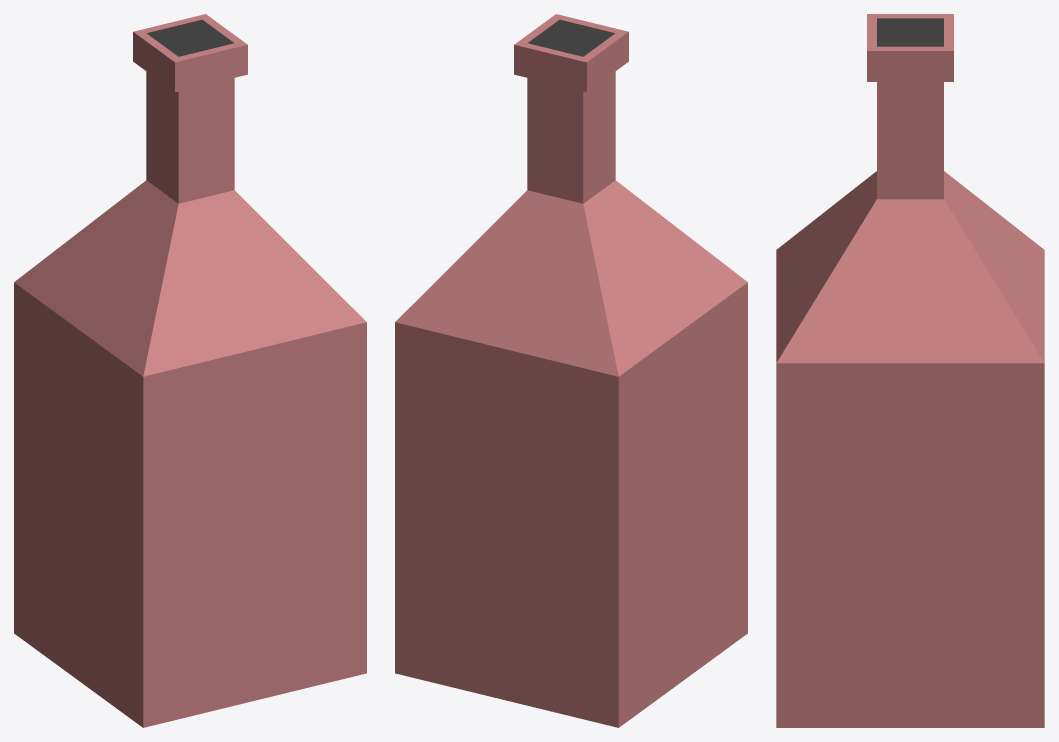
Rendered from Bottle2.fbx.
3 views of the same model, side by side, from view 1: azimuth 30°, elevation 25°; view 2: azimuth 150°, elevation 25°; view 3: azimuth 270°, elevation 25° (orthographic). The views are drawn at different scales.
Parts seen in each view (by area): view 1: Cube; view 2: Cube; view 3: Cube.
Part boxes in pixels (x1,y1,x2,y2): Cube: [14, 14, 366, 727]; Cube: [395, 14, 747, 727]; Cube: [776, 14, 1044, 727].
Size of the model in its own units: 0.2 by 0.5255 by 0.2.
